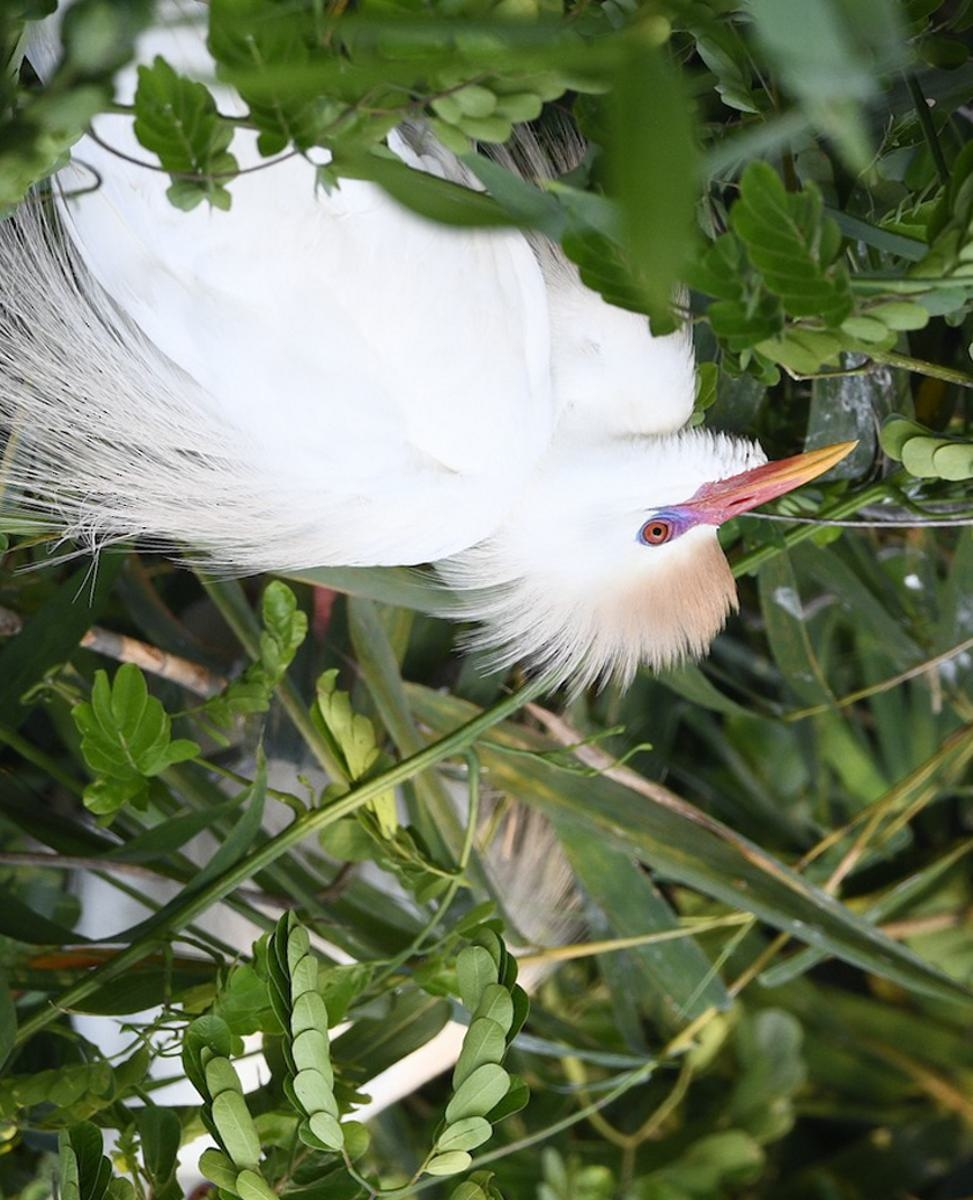egret: (1, 68, 856, 682)
